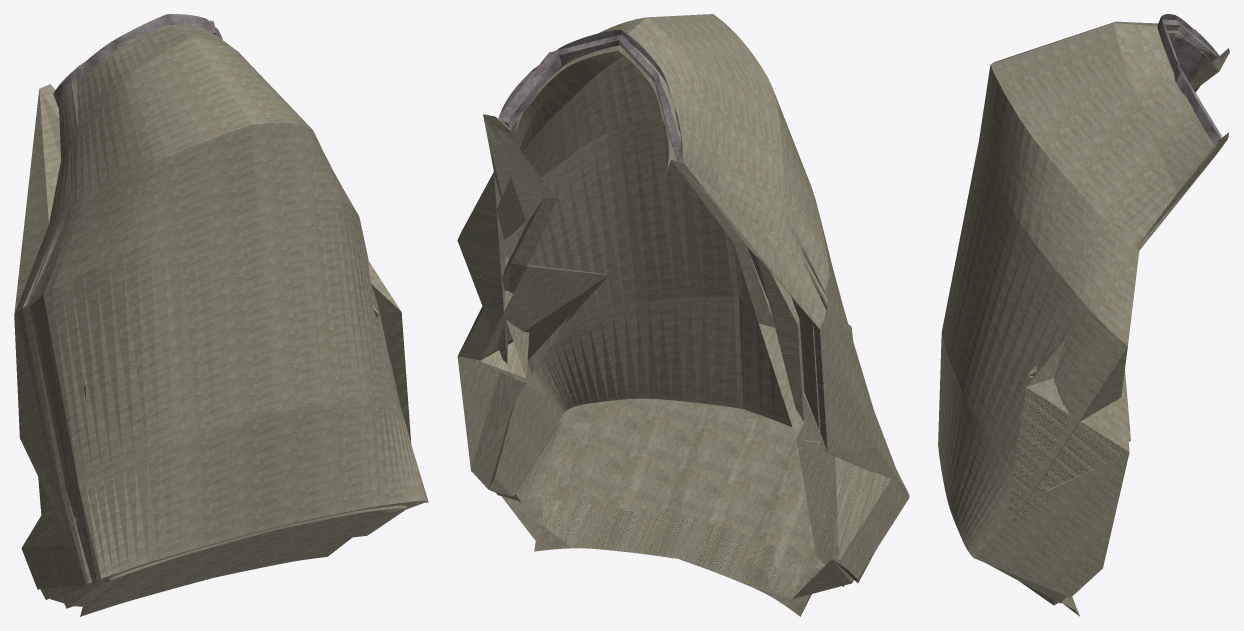
Rendered from titleground_doukutsu.FBX.
3 renders of one model, left to right at view 1: azimuth 30°, elevation 25°; view 2: azimuth 150°, elevation 25°; view 3: azimuth 270°, elevation 25°, orthographic. The views are drawn at different scales.
Parts seen in each view (by area): view 1: tonneru1; view 2: tonneru1; view 3: tonneru1.
Boxes of the visible parts, x1,y1,x2,y2 form: tonneru1: (14,14,428,616); tonneru1: (457,14,909,616); tonneru1: (938,14,1229,616).
Bounding box in the file's own units: 2232 × 1650 × 3377.
